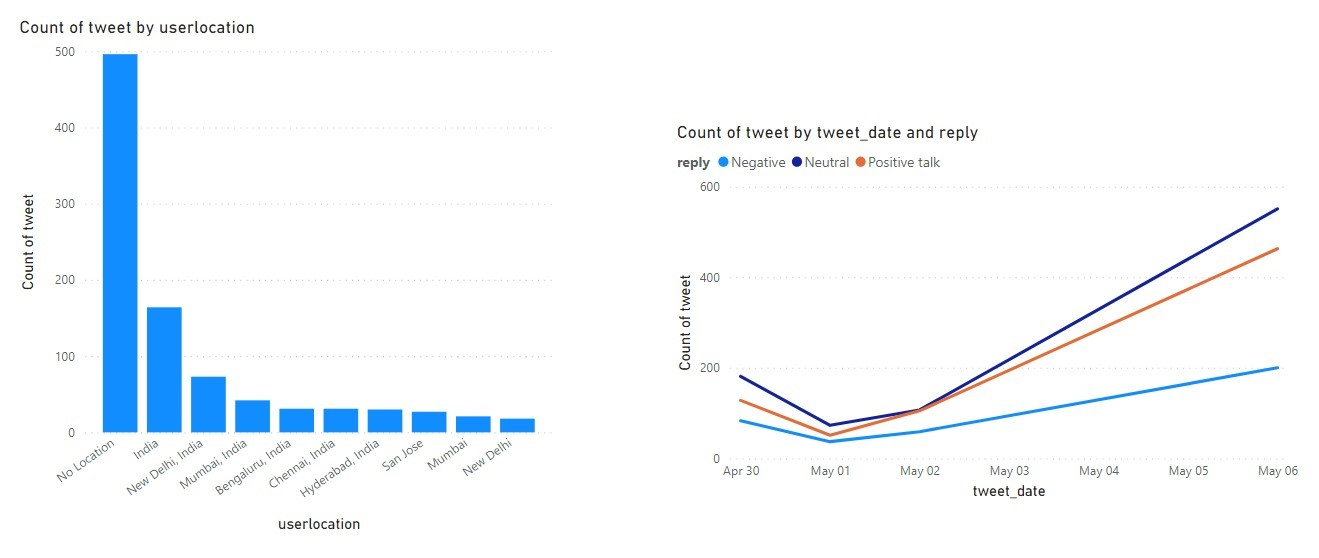

This screenshot's page, from the dashboard's own definition file:
{"tool":"powerbi","page":{"name":"Page 2","canvas":[1280,720],"ordinal":1},"visuals":[{"type":"columnChart","fields":{"Category":["covid_19.userlocation"],"Y":["CountNonNull(covid_19.tweet)"]},"box":[15.7,82.3,526.4,504.6],"z":0},{"type":"lineChart","fields":{"Y":["CountNonNull(covid_19.tweet)"],"Series":["covid_19.reply"],"Category":["covid_19.tweet_date"]},"box":[652.2,183.9,611.1,371.5],"z":1000}]}

Visuals, with their boxes on the page's 1280x720 design canvas (x1, y1, x2, y2). These are canvas units, not pixel positions in the 1319x558 screenshot, which may show the page scaled, cropped or inside an application window:
columnChart - covid_19.userlocation x CountNonNull(covid_19.tweet): l=16, t=82, r=542, b=587
lineChart - CountNonNull(covid_19.tweet) x covid_19.reply: l=652, t=184, r=1263, b=555
